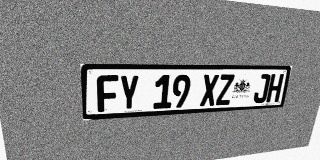1: (153, 75, 173, 109)
9: (171, 75, 191, 108)
F: (97, 75, 118, 112)
H: (266, 74, 284, 103)
J: (253, 74, 271, 103)
X: (200, 74, 219, 106)
Y: (119, 75, 139, 111)
Z: (216, 74, 235, 105)
